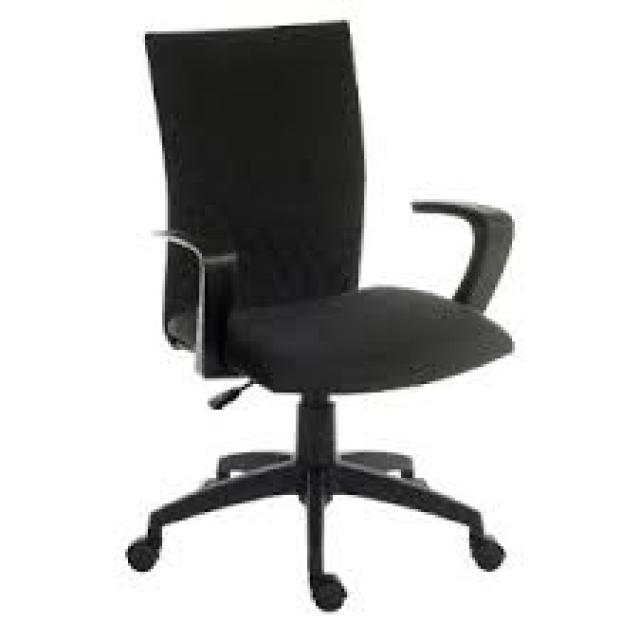chair: (33, 0, 556, 640)
